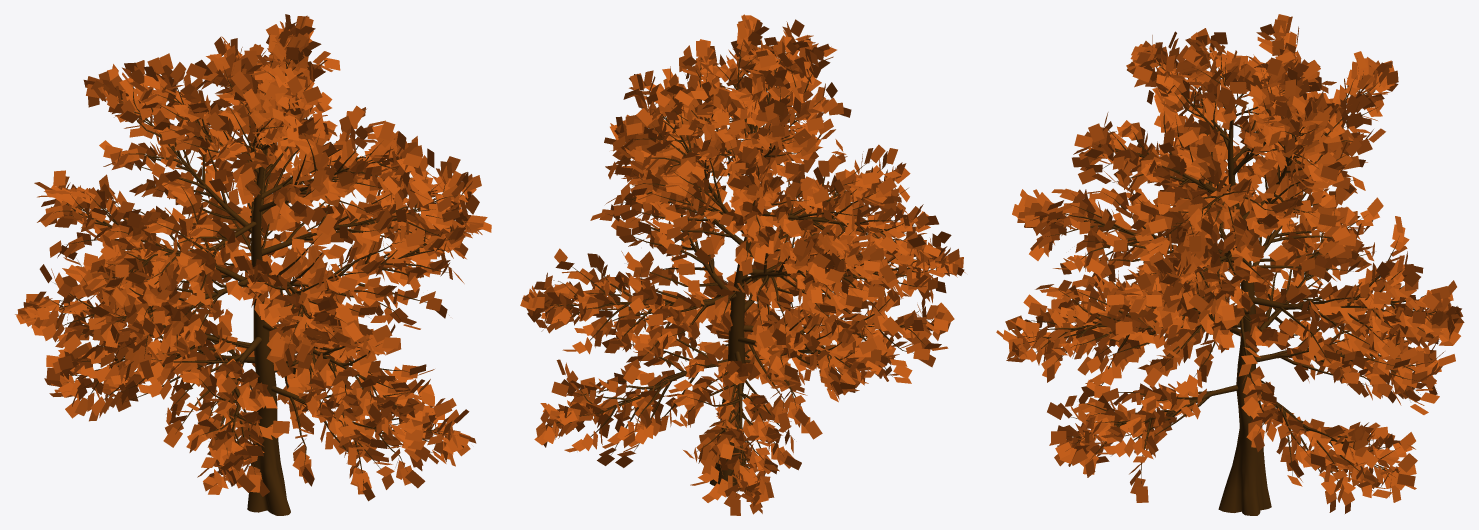
The model's file is tree_01.FBX.
3 renders of one model, left to right at view 1: azimuth 30°, elevation 25°; view 2: azimuth 150°, elevation 25°; view 3: azimuth 270°, elevation 25°, orthographic. The views are drawn at different scales.
Visible parts, largest first — view 1: Foliage001; view 2: Foliage001; view 3: Foliage001.
Part boxes in pixels (x1,y1,x2,y2): Foliage001: (15, 14, 491, 515); Foliage001: (520, 14, 965, 515); Foliage001: (996, 14, 1464, 515).
Bounding box in the file's own units: 100 × 120 × 107.
